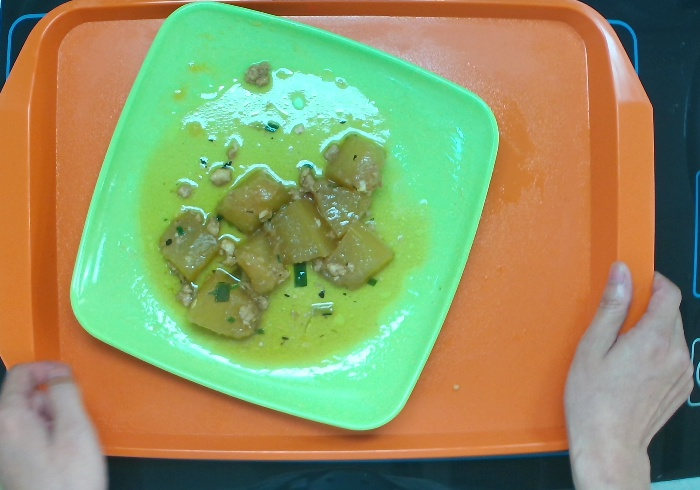ZNLD-Lv_Fang_Pan: (68, 1, 501, 433)
